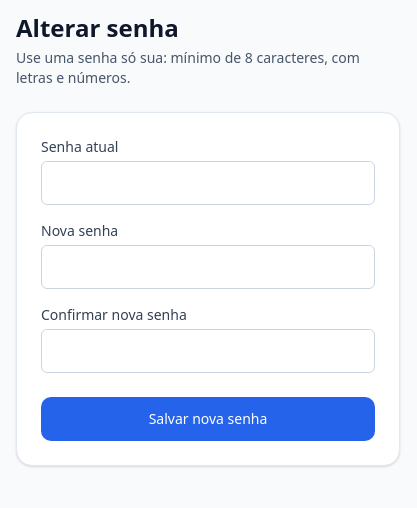
it: ChangePasswordPage › 422 INVALID_CURRENT_PASSWORD aponta o erro no campo de senha atual
Type "senha-errada" into the password field labelled "Senha atual". click: (208, 183)
box: 41,161 -> 375,205
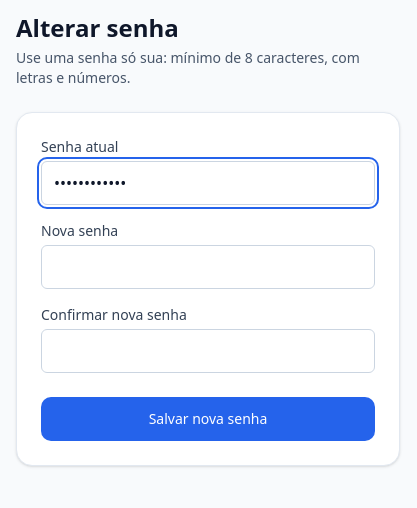
Type "novaSenha123" into the password field labelled "Nova senha". click: (208, 267)
box: 41,245 -> 375,289
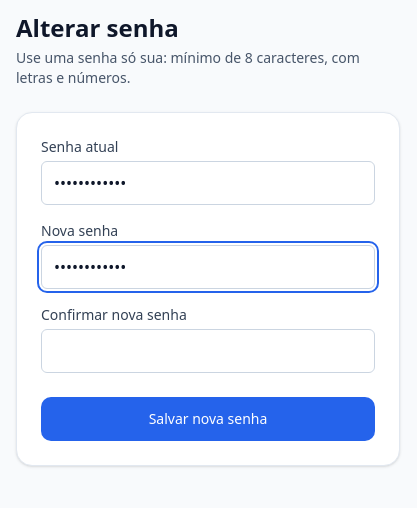
Type "novaSenha123" into the password field labelled "Confirmar nova senha". click: (208, 351)
box: 41,329 -> 375,373
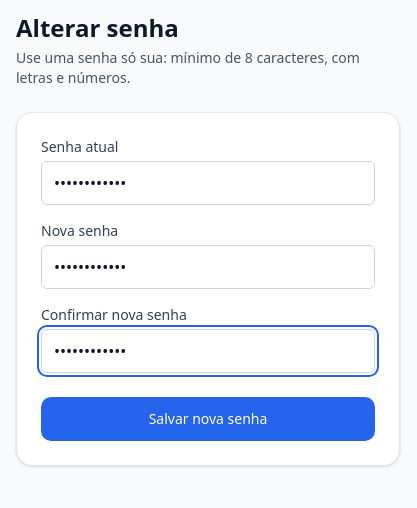
Click the button "Salvar nova senha". click: (208, 419)
box: 41,397 -> 375,441
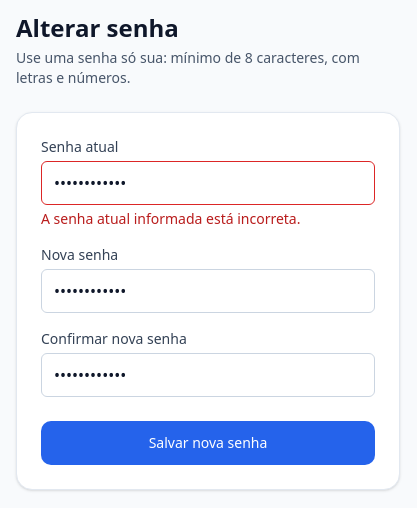
Expected: the text "A senha atual informada está incorreta." is shown, 41,209 -> 300,228
